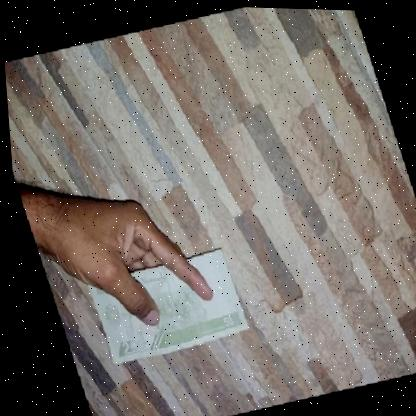vef_back: (78, 242, 249, 368)
